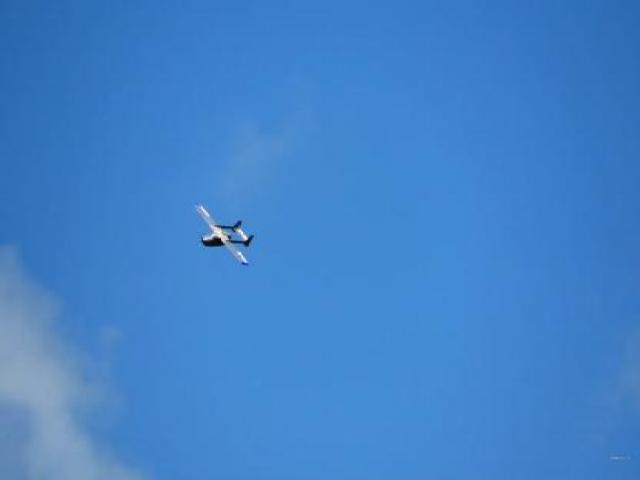uav: (192, 194, 258, 272)
